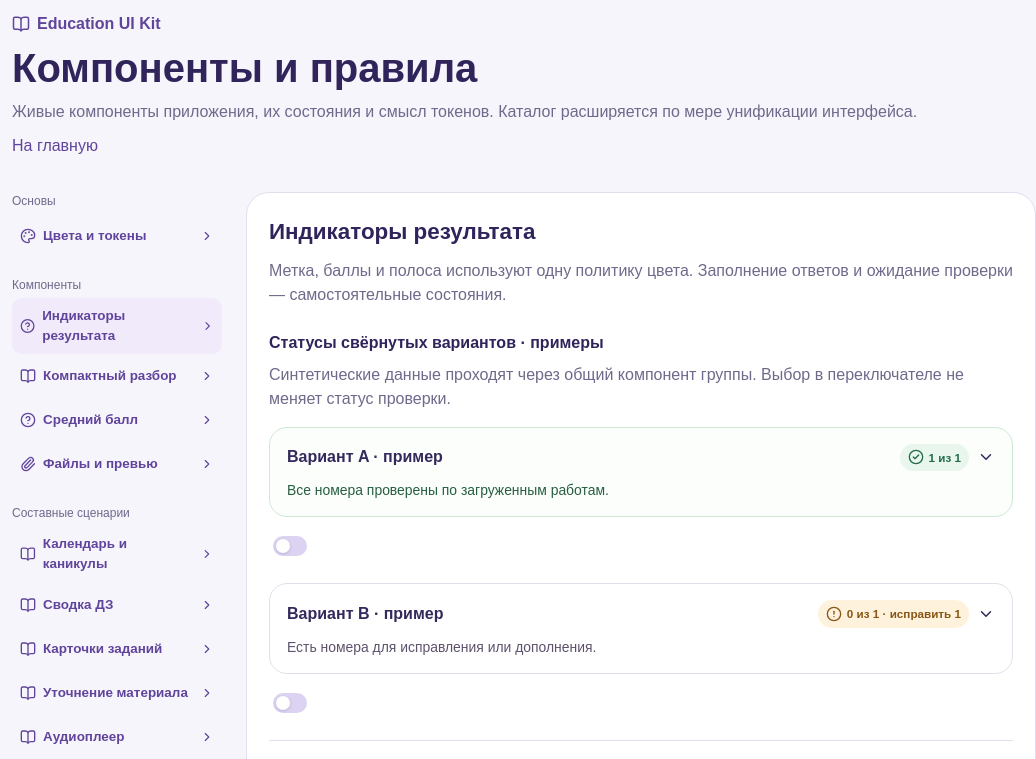
Scenario: demonstrates the shared calendar with local selection and explicit synthetic data
Click the button "Календарь и каникулы" at (117, 554), box [12,526,222,583]
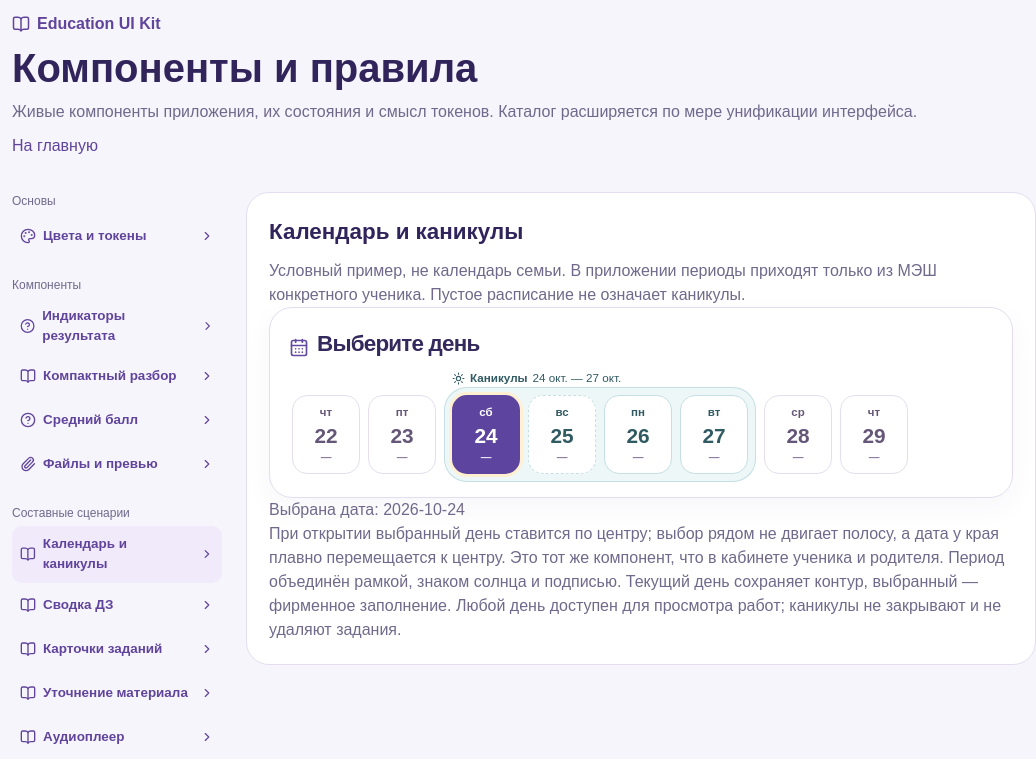
Result: the text "Условный пример, не календарь семьи" is shown at [269,262,937,303]
Result: the number of elements with class "day-dashboard-vacation" is 1 at [444,387,756,482]
Click the button "пн 26 —" at (638, 435), box [604,395,672,474]
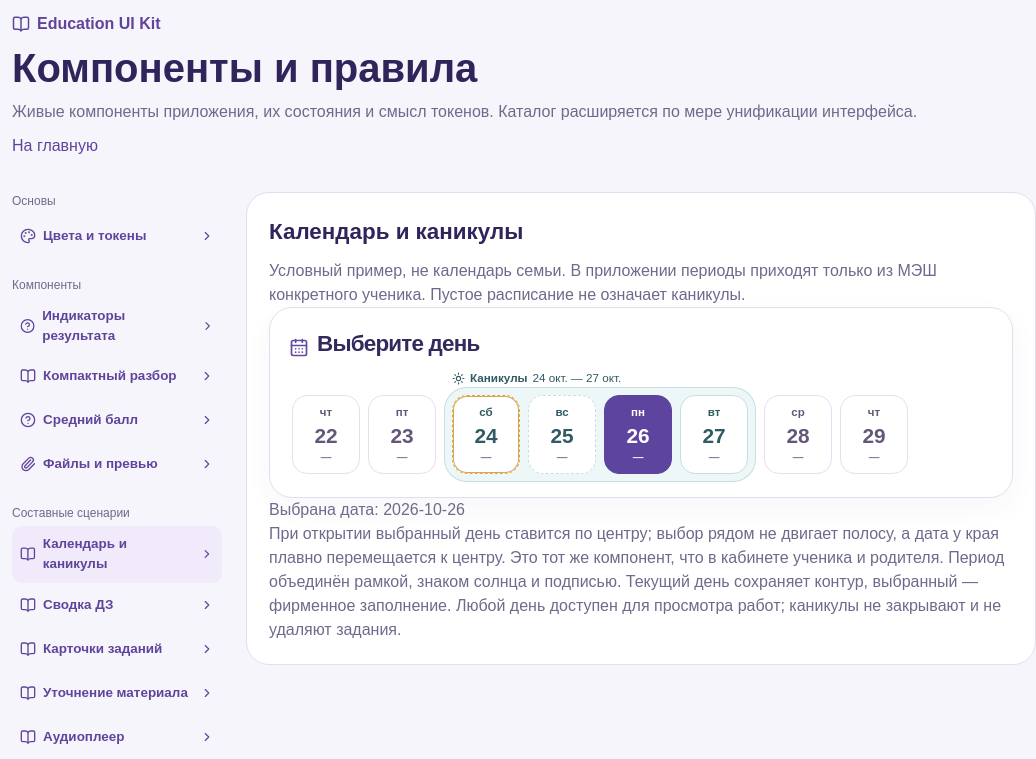
Result: the message "Выбрана дата: 2026-10-26" is shown at [269,502,465,518]
